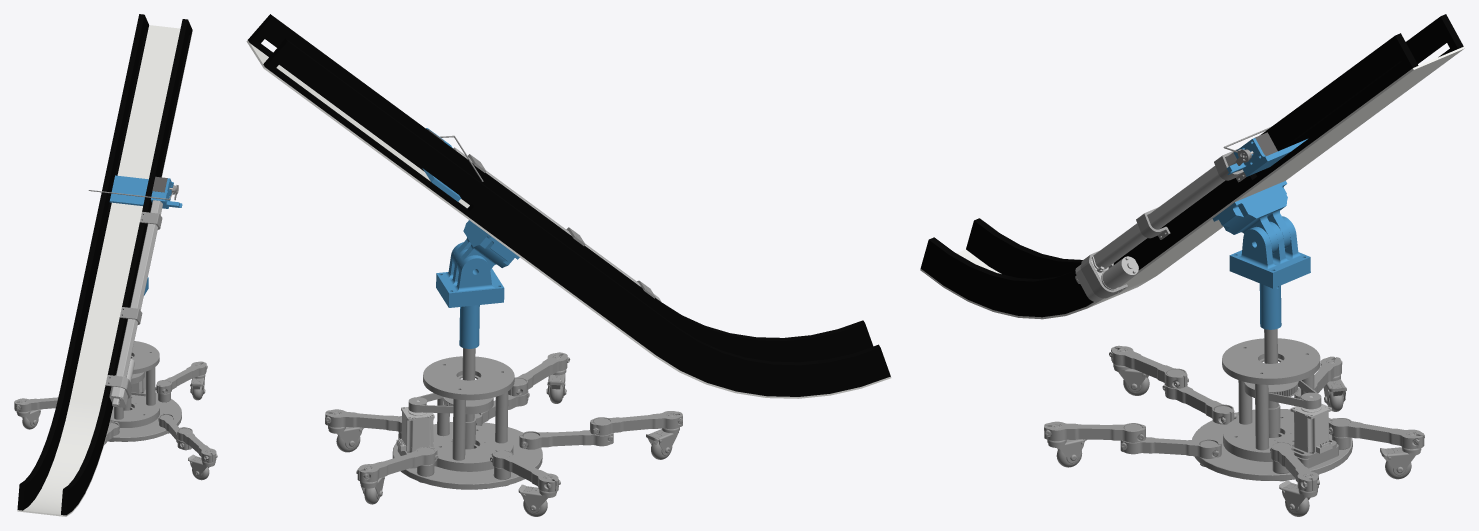
Rendered from Simplified Ramp Assembly 2025 v1.fbx.
The picture shows the model from 3 angles, left to right: view 1: azimuth 30°, elevation 25°; view 2: azimuth 150°, elevation 25°; view 3: azimuth 270°, elevation 25°; orthographic projection. The views are drawn at different scales.
Visible parts, largest first — view 1: Ramp Back, Rail:1, Rail:2, Base, Case, Rotation Assembly, Plate, Base Bracket, Shaft Bracket:1, Shaft Bracket:2; view 2: Rail:1, Base, Rail:2, Rotation Assembly, Shaft Adapter, Ramp Back, Ramp Adapter, Motor, Main Shaft; view 3: Base, Rail:2, Rotation Assembly, Ramp Back, Rail:1, Shaft Adapter, Case, Ramp Adapter, Motor, Plate, Main Shaft, Base Bracket (+1 smaller).
Part boxes in pixels (bbox=[...]): Ramp Back: bbox=[17, 25, 192, 516]; Rail:1: bbox=[17, 14, 148, 510]; Rail:2: bbox=[61, 19, 192, 515]; Base: bbox=[14, 361, 217, 480]; Case: bbox=[109, 200, 162, 407]; Rotation Assembly: bbox=[110, 341, 159, 427]; Plate: bbox=[109, 175, 182, 208]; Base Bracket: bbox=[105, 375, 131, 398]; Shaft Bracket:1: bbox=[120, 307, 142, 324]; Shaft Bracket:2: bbox=[140, 211, 162, 229]; Rail:1: bbox=[263, 38, 890, 396]; Base: bbox=[325, 352, 682, 516]; Rail:2: bbox=[248, 14, 873, 362]; Rotation Assembly: bbox=[397, 356, 514, 471]; Shaft Adapter: bbox=[436, 242, 504, 348]; Ramp Back: bbox=[246, 40, 891, 398]; Ramp Adapter: bbox=[453, 220, 519, 272]; Motor: bbox=[396, 405, 434, 452]; Main Shaft: bbox=[462, 348, 475, 449]; Base: bbox=[1044, 345, 1424, 516]; Rail:2: bbox=[920, 33, 1418, 317]; Rotation Assembly: bbox=[1222, 338, 1338, 468]; Ramp Back: bbox=[920, 46, 1464, 319]; Rail:1: bbox=[966, 14, 1463, 278]; Shaft Adapter: bbox=[1229, 216, 1310, 329]; Case: bbox=[1075, 148, 1238, 302]; Ramp Adapter: bbox=[1212, 181, 1290, 253]; Motor: bbox=[1290, 403, 1332, 453]; Plate: bbox=[1227, 138, 1307, 176]; Main Shaft: bbox=[1264, 329, 1280, 437]; Base Bracket: bbox=[1080, 251, 1127, 298].
Bounding box in the file's own units: 1020 × 1037 × 1020.
